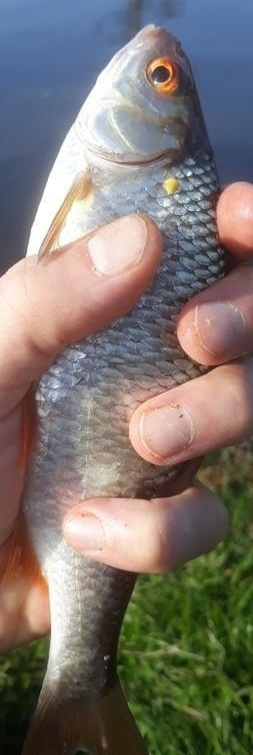Rutilus rutilus: (20, 20, 233, 755)
